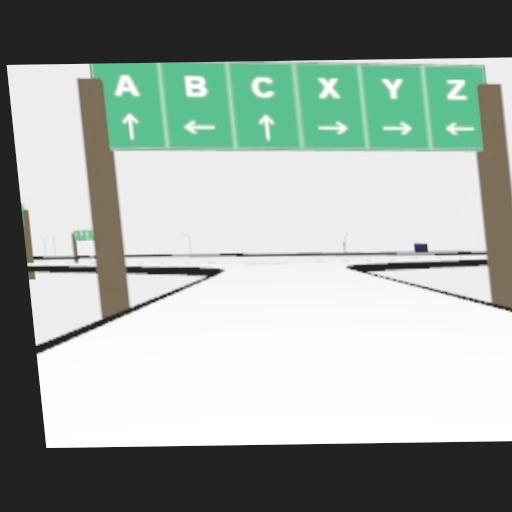A: (111, 72, 139, 95)
B: (183, 73, 209, 96)
C: (250, 76, 275, 97)
Left: (181, 118, 217, 132), (441, 120, 475, 133)
Right: (317, 119, 350, 134), (381, 120, 413, 135)
Straight: (120, 112, 140, 138), (258, 112, 277, 138)
X: (316, 76, 341, 97)
Y: (380, 77, 403, 98)
Z: (443, 78, 468, 99)
